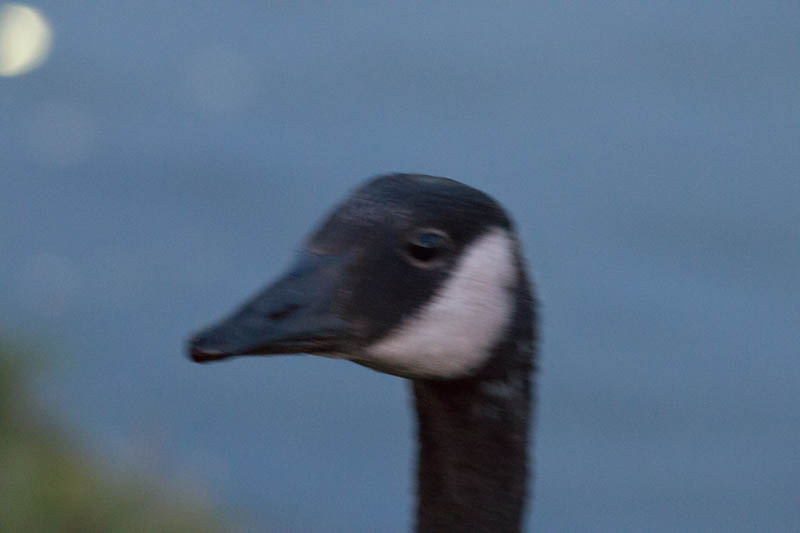goose-head: (182, 171, 542, 391)
